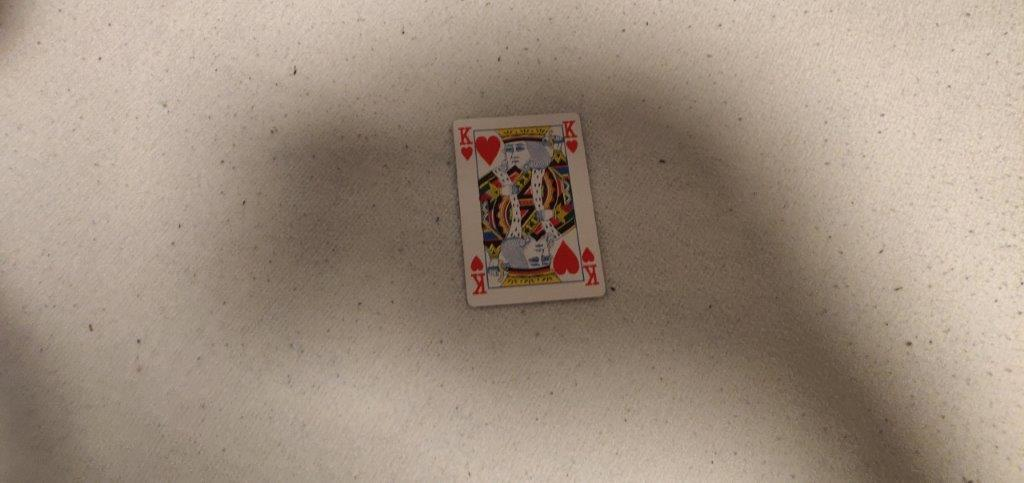KH: (559, 113, 583, 158), (455, 124, 478, 163)
